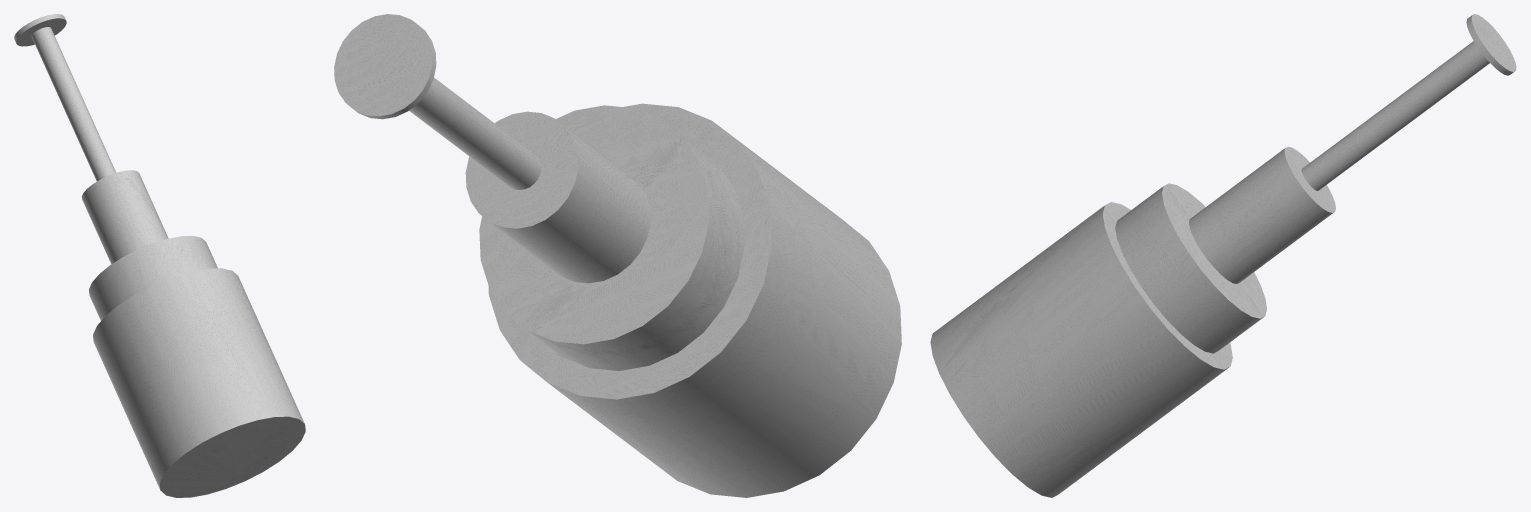
The model's file is original-8.obj.
The picture shows the model from 3 angles, left to right: view 1: azimuth 30°, elevation 25°; view 2: azimuth 150°, elevation 25°; view 3: azimuth 270°, elevation 25°; orthographic projection. The views are drawn at different scales.
Parts seen in each view (by area): view 1: mesh9/mesh9-geometry#mesh9-geometry; view 2: mesh9/mesh9-geometry#mesh9-geometry; view 3: mesh9/mesh9-geometry#mesh9-geometry.
Part boxes in pixels (<box>): mesh9/mesh9-geometry#mesh9-geometry: <box>14,14,305,497</box>; mesh9/mesh9-geometry#mesh9-geometry: <box>334,14,901,497</box>; mesh9/mesh9-geometry#mesh9-geometry: <box>930,14,1516,497</box>.
Size of the model in its own units: 0.0167 by 0.0421 by 0.0478.
